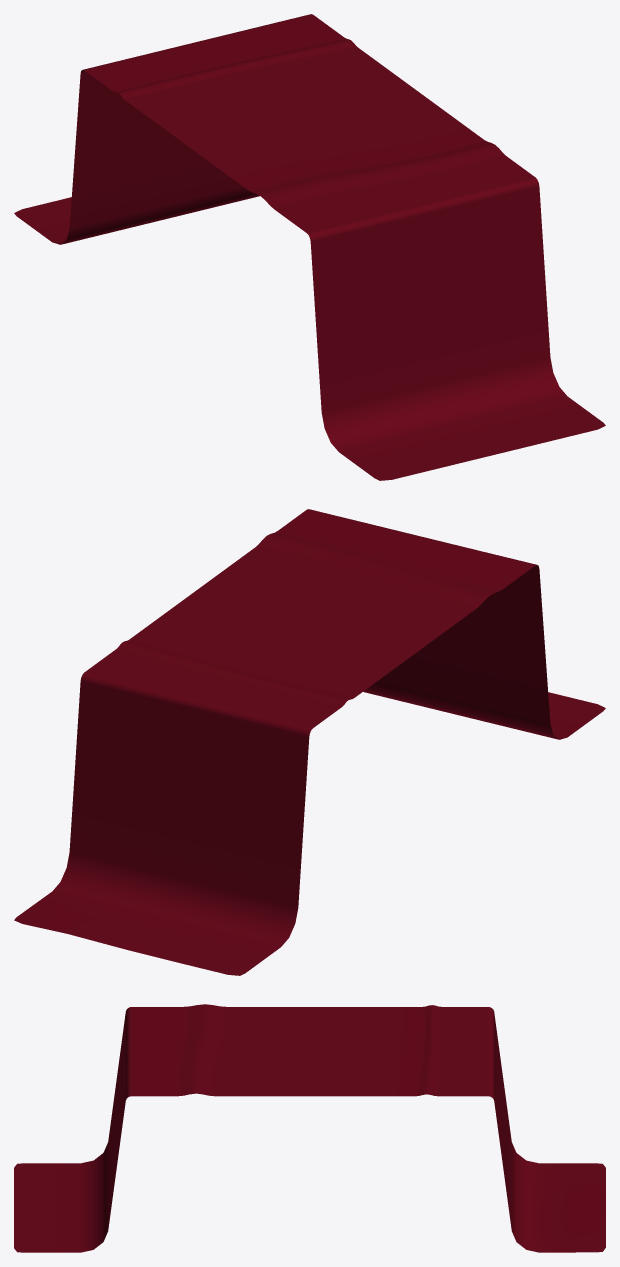
The model's file is Carpet_Table.fbx.
3 renders of one model, top to bottom at view 1: azimuth 30°, elevation 25°; view 2: azimuth 150°, elevation 25°; view 3: azimuth 270°, elevation 25°, orthographic. The views are drawn at different scales.
Visible parts, largest first — view 1: Carpet_Table; view 2: Carpet_Table; view 3: Carpet_Table.
Part boxes in pixels (<box>): Carpet_Table: <box>14,14,605,480</box>; Carpet_Table: <box>14,509,605,975</box>; Carpet_Table: <box>14,1004,605,1252</box>.
Size of the model in its own units: 0.6199 by 0.5145 by 1.74.
